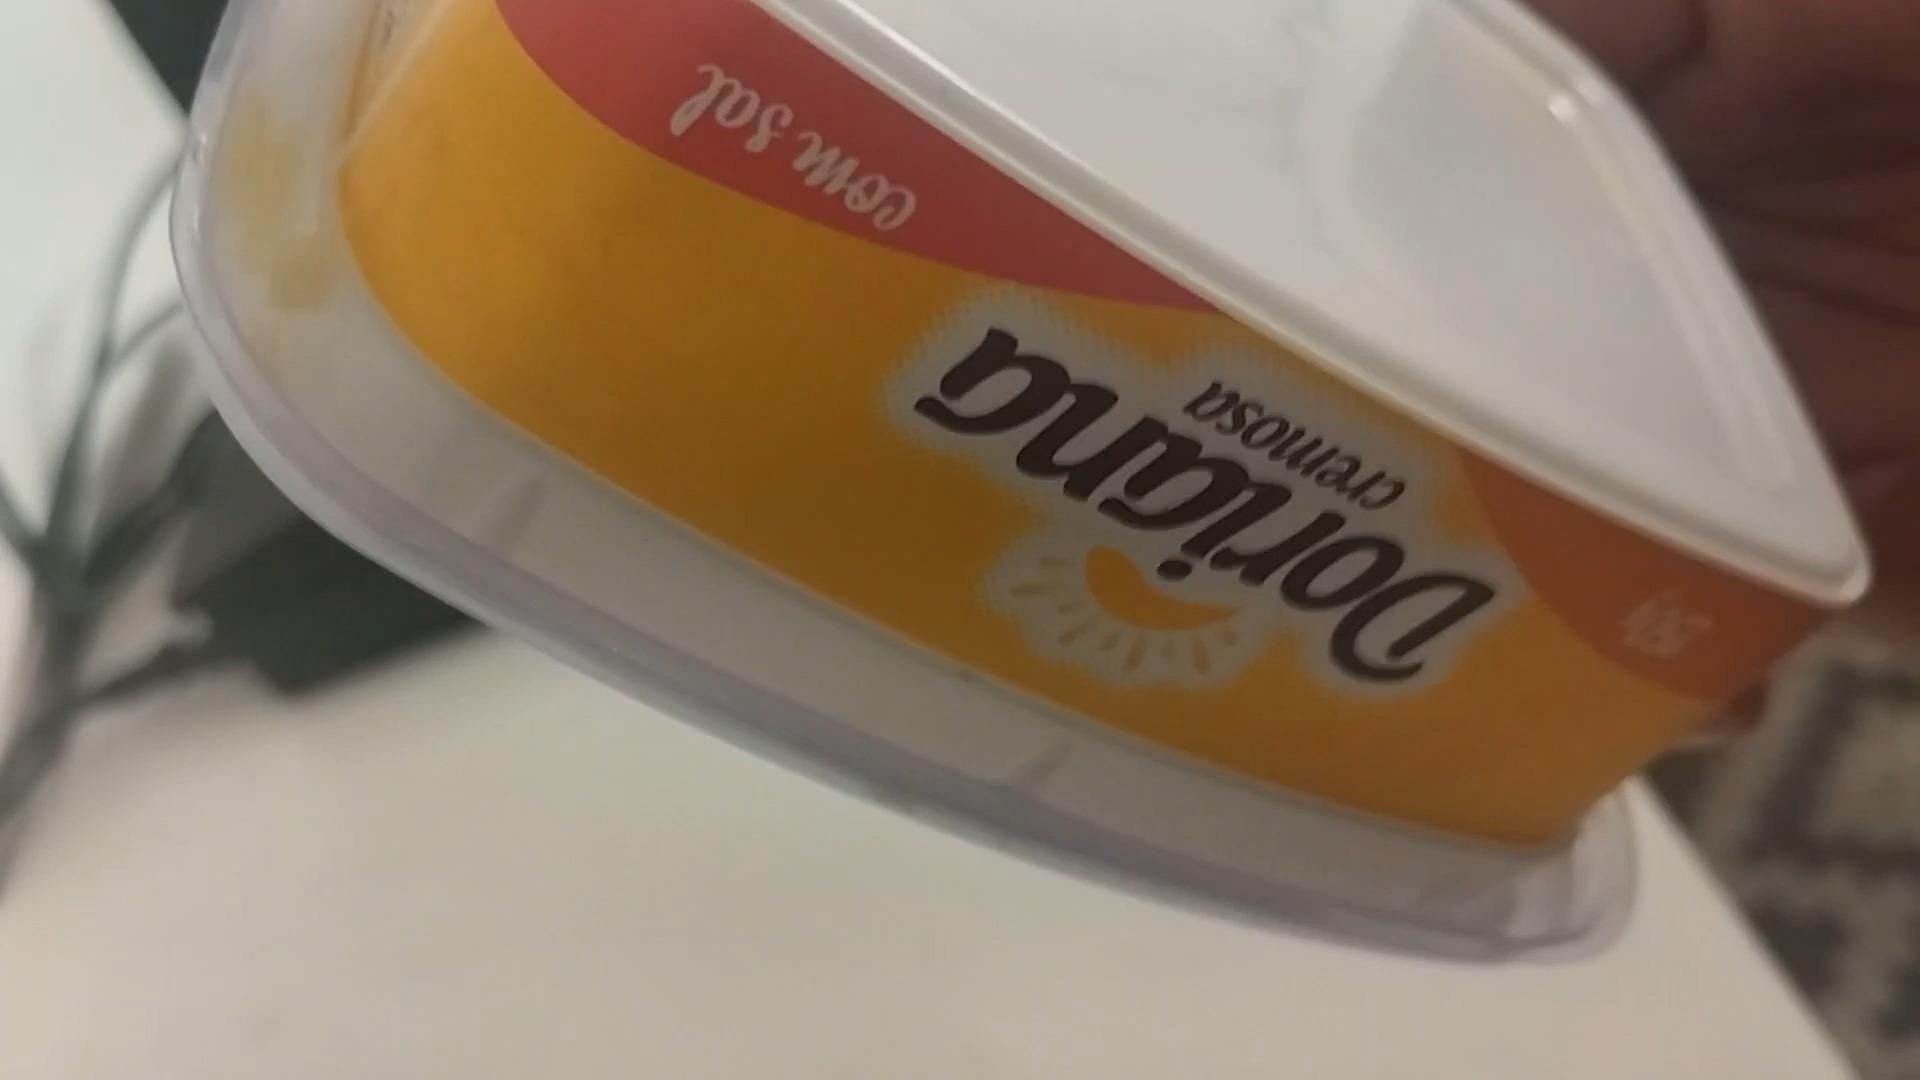butter: (189, 0, 1854, 938)
